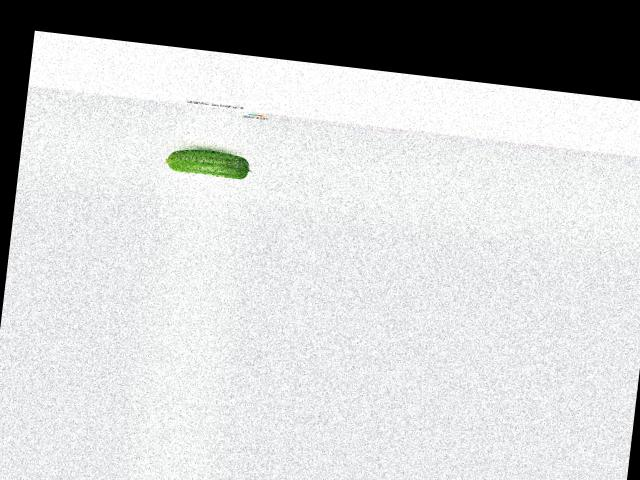cucumber: (163, 145, 253, 180)
